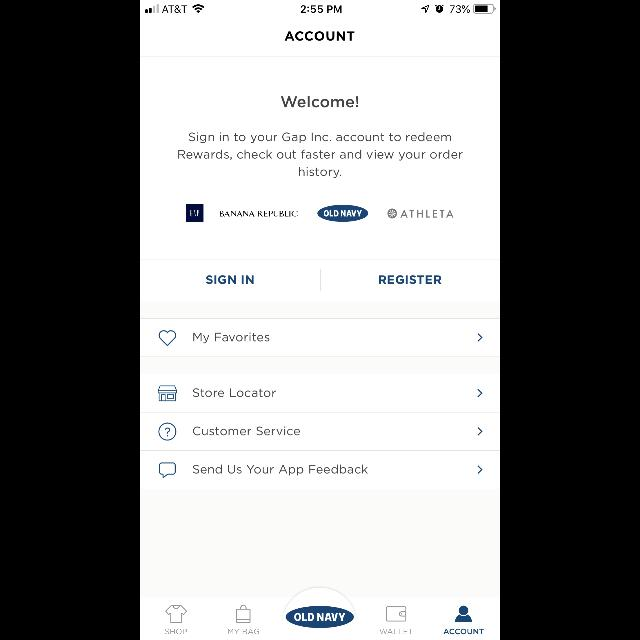icon: (159, 423, 177, 441), (386, 606, 406, 622), (454, 606, 472, 622), (160, 462, 177, 478), (160, 330, 177, 346), (237, 605, 251, 623), (478, 426, 482, 436), (478, 466, 482, 474), (478, 389, 482, 397), (478, 334, 482, 342)
image: (286, 606, 354, 628), (317, 205, 368, 222), (166, 605, 188, 623), (186, 204, 204, 222), (158, 385, 178, 401), (388, 209, 397, 219)
text: (179, 132, 463, 178), (192, 464, 368, 476), (194, 426, 300, 436), (282, 96, 358, 108), (194, 332, 270, 343), (194, 388, 276, 398), (285, 31, 355, 41), (379, 276, 441, 284), (220, 211, 298, 217), (401, 210, 454, 218), (206, 276, 254, 284), (444, 629, 484, 635), (228, 628, 260, 634), (380, 628, 412, 634), (165, 628, 187, 634)
uppertaskbar: (140, 0, 500, 14)
